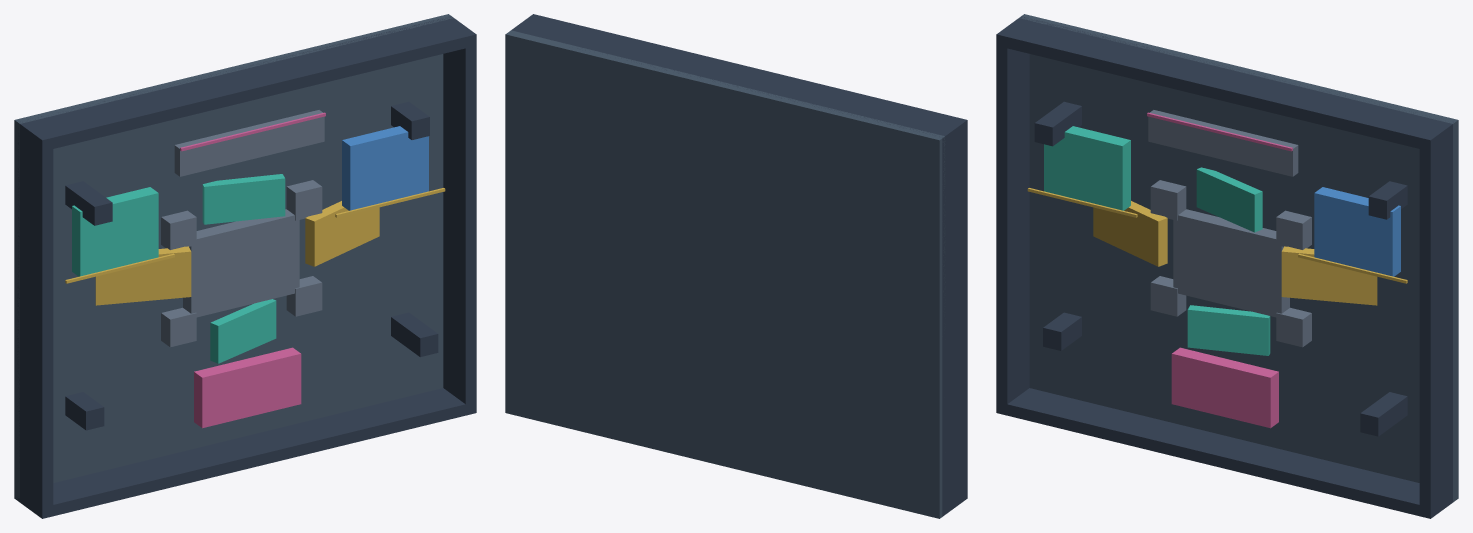
The model's file is LostFoodCourt_Arena_Blockout.glb.
3 views of the same model, side by side, from view 1: azimuth 30°, elevation 25°; view 2: azimuth 150°, elevation 25°; view 3: azimuth 330°, elevation 25° (orthographic).
Parts seen in each view (by area): view 1: ArenaFloor, NorthWall, SouthWall, WestWall, EastWall, CentralStage, SouthPlatform, EastUpperPlatform, WestUpperPlatform, NorthBridge, WestRamp, NorthRamp (+11 smaller); view 2: ArenaFloor, NorthWall, WestWall; view 3: ArenaFloor, NorthWall, SouthWall, EastWall, WestWall, CentralStage, SouthPlatform, EastUpperPlatform, WestUpperPlatform, NorthBridge, EastRamp, SouthRamp (+11 smaller).
Boxes of the visible parts, x1,y1,x2,y2 form: ArenaFloor: (14, 14, 453, 502); NorthWall: (18, 16, 476, 151); SouthWall: (17, 388, 476, 518); WestWall: (17, 134, 53, 507); EastWall: (443, 46, 476, 404); CentralStage: (183, 209, 299, 317); SouthPlatform: (194, 347, 301, 428); EastUpperPlatform: (342, 126, 428, 210); WestUpperPlatform: (72, 187, 158, 276); NorthBridge: (174, 110, 324, 176); WestRamp: (95, 246, 191, 305); NorthRamp: (202, 174, 285, 224); ArenaFloor: (505, 30, 945, 518); NorthWall: (511, 14, 967, 149); WestWall: (942, 131, 967, 505); ArenaFloor: (1019, 14, 1458, 502); NorthWall: (996, 16, 1453, 151); SouthWall: (996, 388, 1452, 518); EastWall: (1419, 135, 1452, 507); WestWall: (996, 46, 1029, 404); CentralStage: (1173, 209, 1289, 317); SouthPlatform: (1171, 347, 1278, 428); EastUpperPlatform: (1314, 187, 1400, 276); WestUpperPlatform: (1044, 126, 1130, 210); NorthBridge: (1148, 110, 1298, 176); EastRamp: (1281, 246, 1377, 305); SouthRamp: (1187, 305, 1270, 355).
Size of the model in its own units: 3600 by 3000 by 500.
